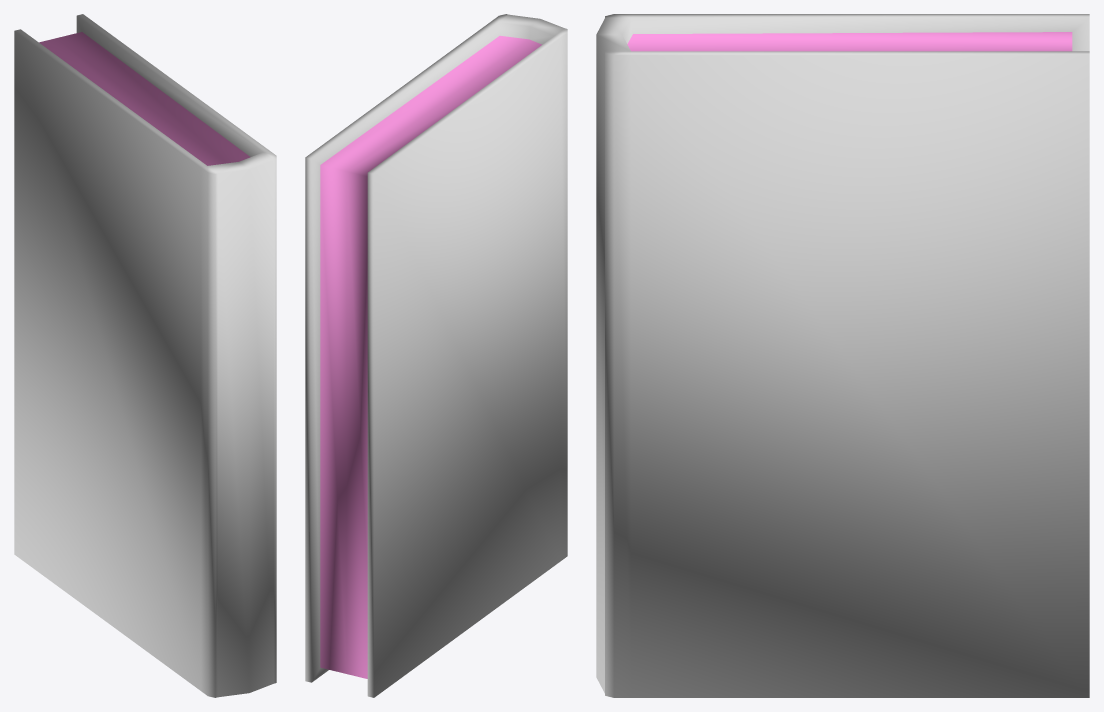
The model's file is Book_02.fbx.
3 renders of one model, left to right at view 1: azimuth 30°, elevation 25°; view 2: azimuth 150°, elevation 25°; view 3: azimuth 270°, elevation 25°, orthographic. The views are drawn at different scales.
Parts seen in each view (by area): view 1: Book_02; view 2: Book_02; view 3: Book_02.
Part boxes in pixels (x1,y1,x2,y2): Book_02: [14, 14, 276, 697]; Book_02: [305, 14, 567, 697]; Book_02: [596, 14, 1089, 697].
Bounding box in the file's own units: 0.0603 × 0.3045 × 0.4378.
